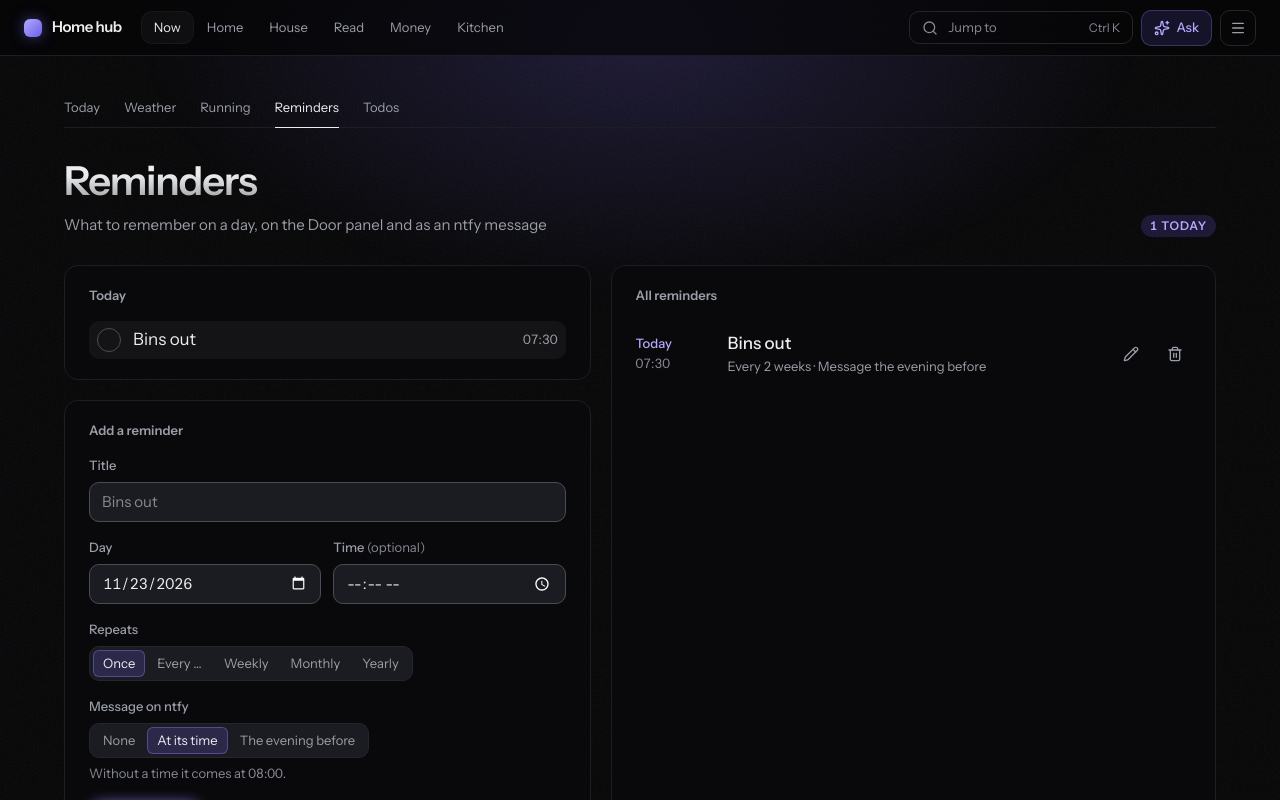
Test case: RemindersPage › changes and deletes a reminder, and says why a write failed
What coordinates should you click on to do the following:
click the button named "Change Bins out"
I would click on:
 (1131, 354)
Its box is left=1115, top=338, right=1147, bottom=370.
(page scrolled)
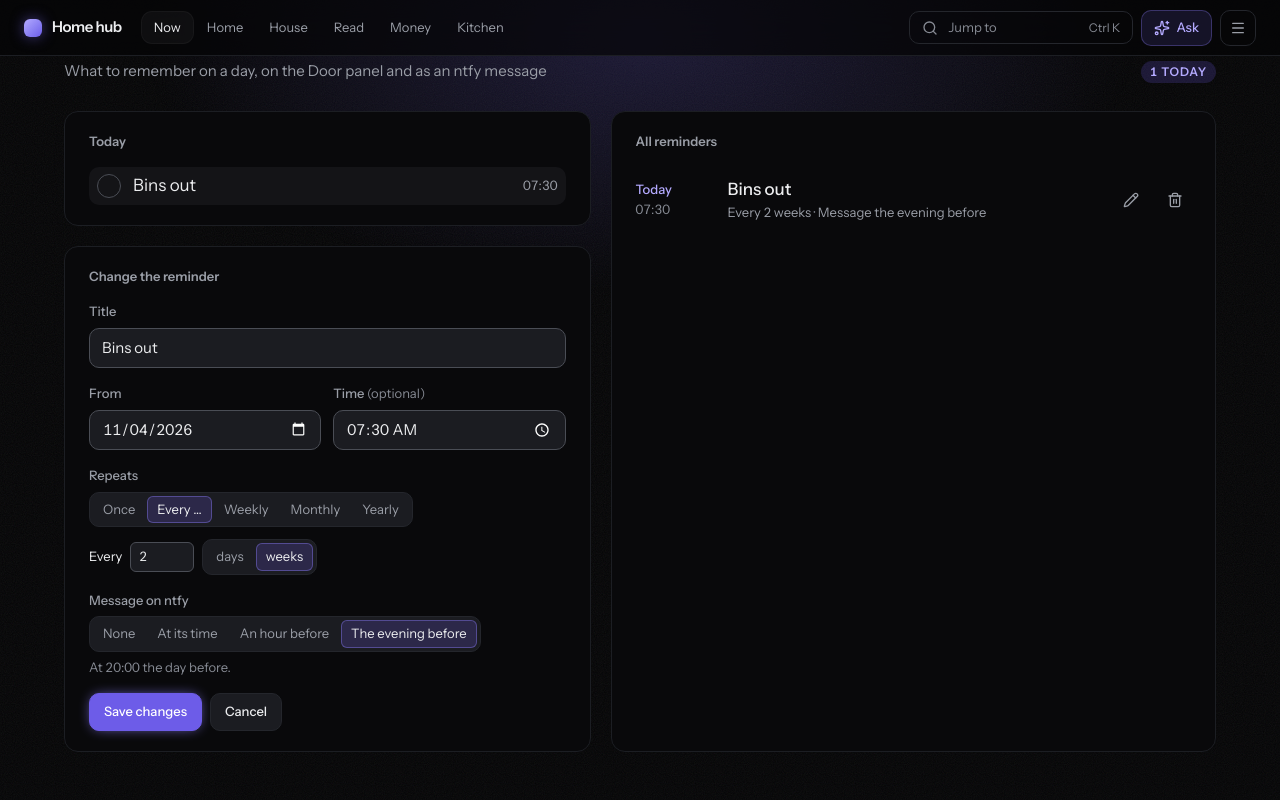
expect the field labelled "Title" holds "Bins out": met, box left=89, top=328, right=566, bottom=368
What coordinates should you click on to do the following:
click the button "Save changes"
I would click on:
 (146, 712)
Its box is left=89, top=693, right=202, bottom=730.
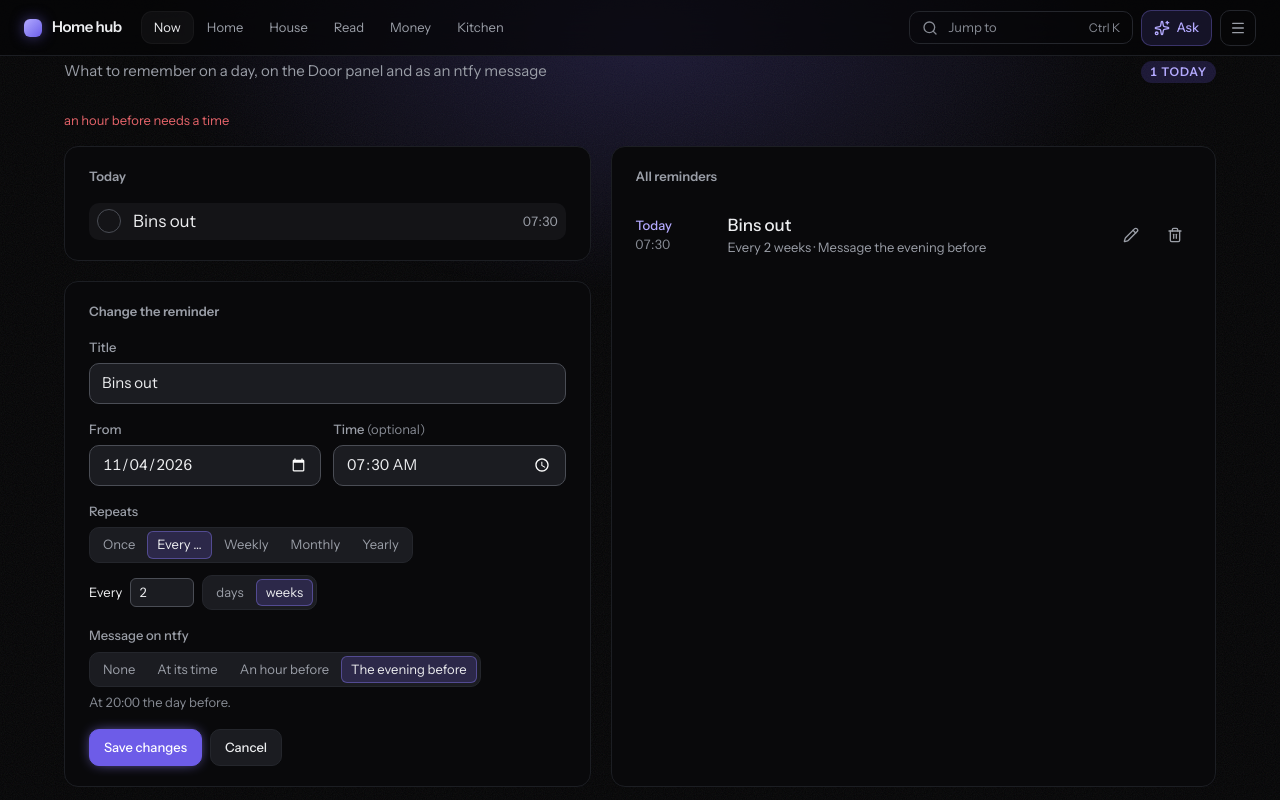
expect the text "an hour before needs a time" is shown: met, box left=64, top=112, right=229, bottom=128
What coordinates should you click on to do the following:
click the button named "Delete Bins out"
I would click on:
 (1175, 235)
Its box is left=1159, top=219, right=1191, bottom=251.
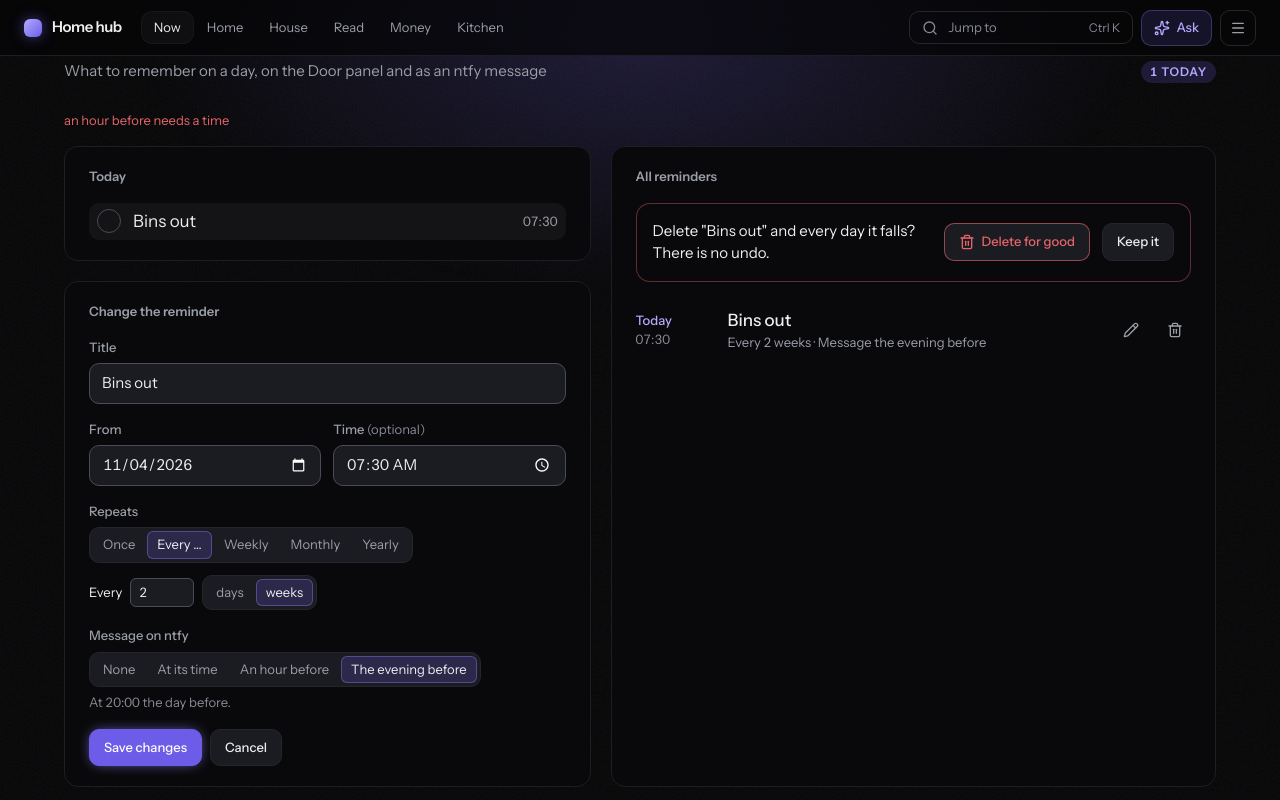
What coordinates should you click on to do the following:
click the button "Delete for good"
I would click on:
 (1017, 242)
Its box is left=944, top=223, right=1090, bottom=261.
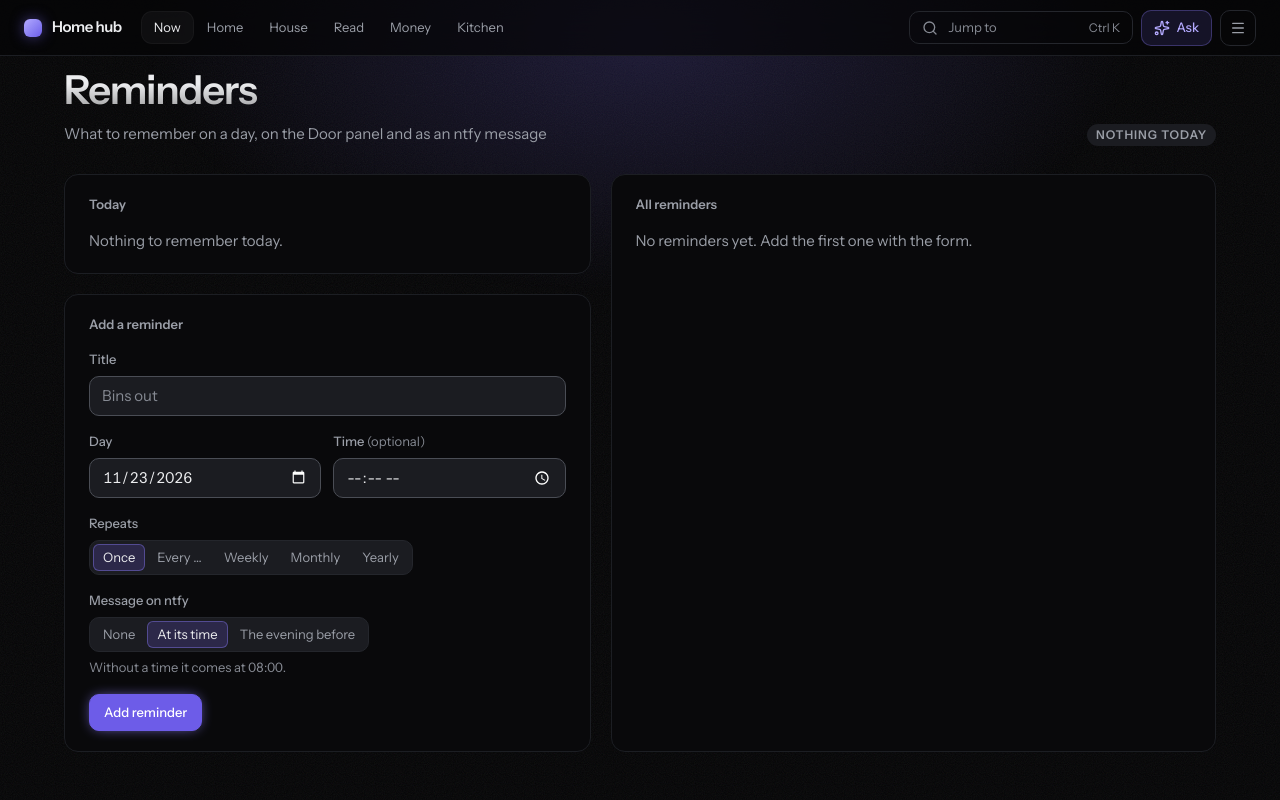
expect the text "No reminders yet. Add the first one with the form." is shown: met, box left=636, top=231, right=972, bottom=250
expect the text "Nothing to remember today." is shown: met, box left=89, top=231, right=283, bottom=250
